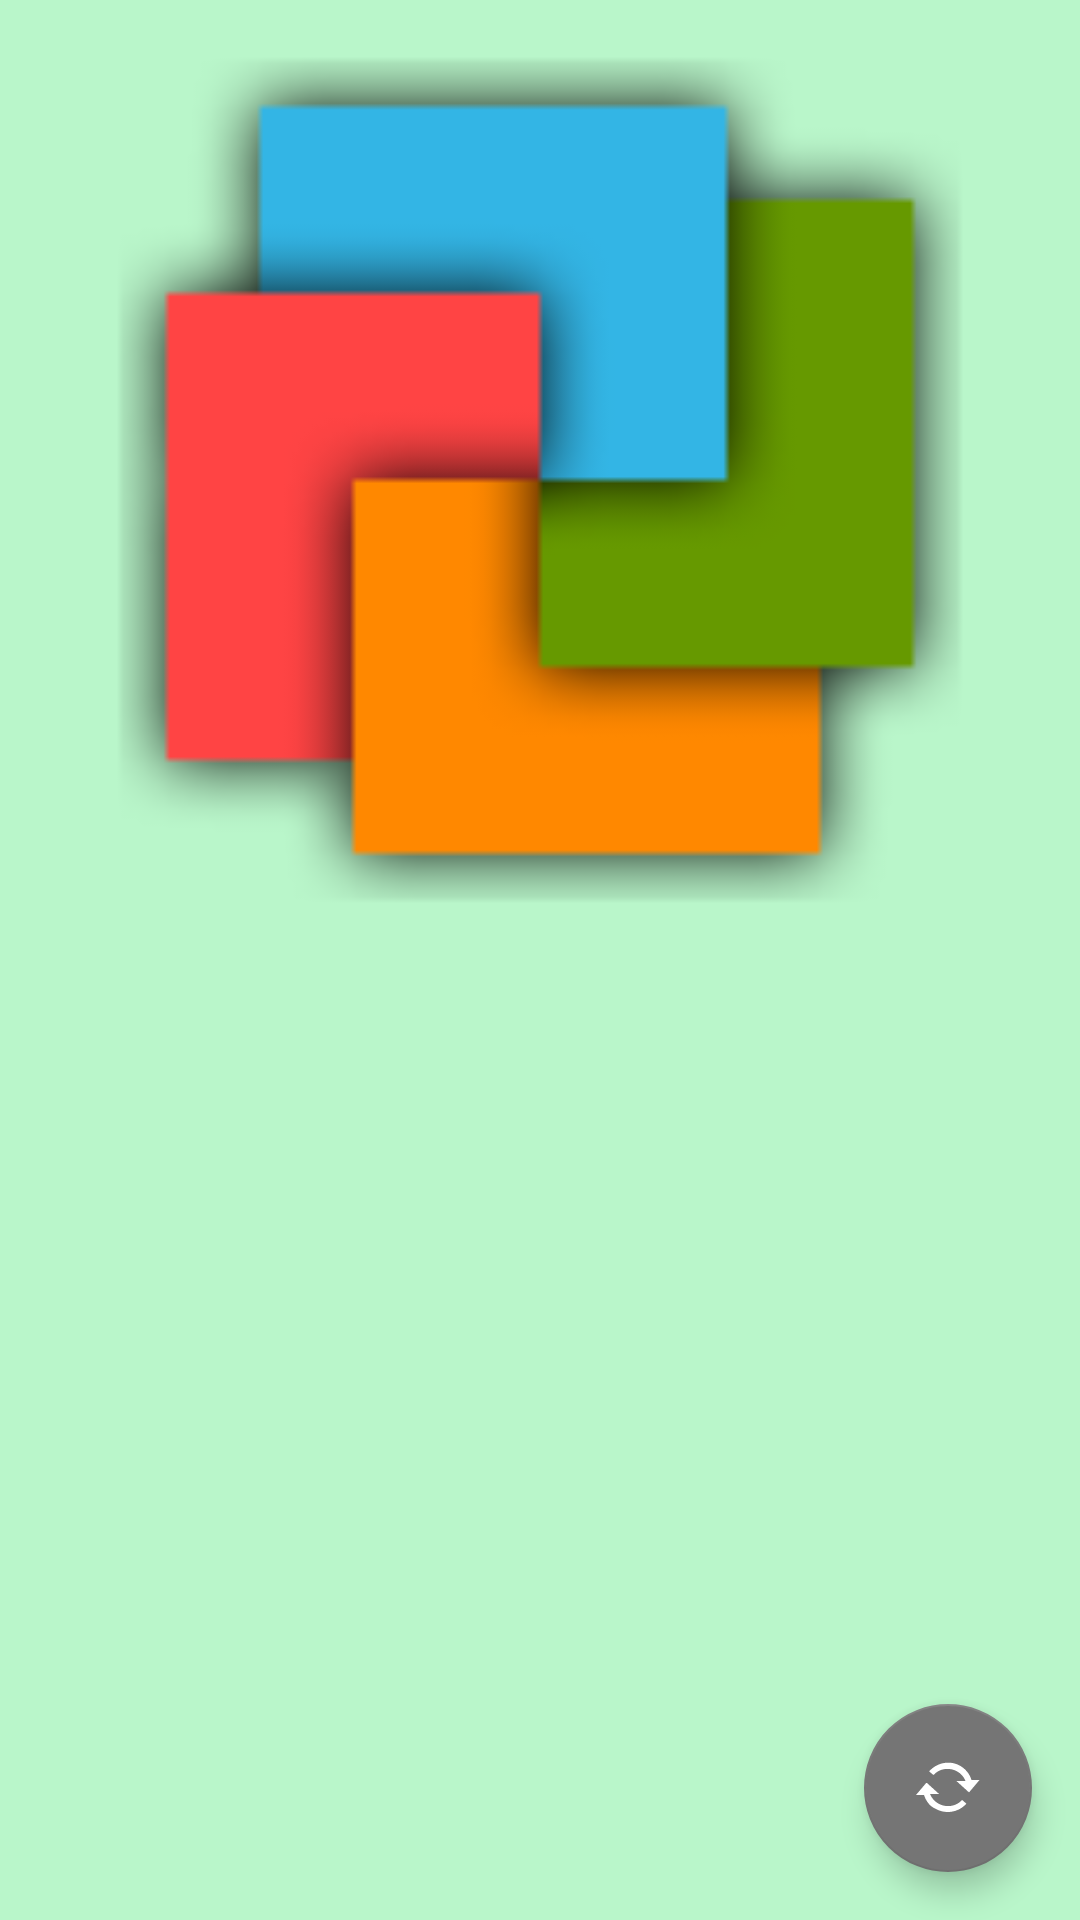

Where to tap for icons on this 1080px x 1920px app screen, as point (x, y):
sync noanim: point (948, 1788)
